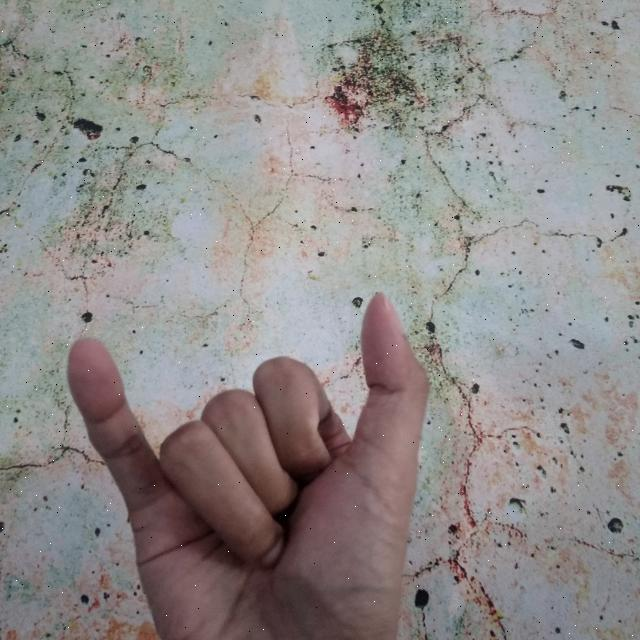Y: (56, 279, 440, 640)
